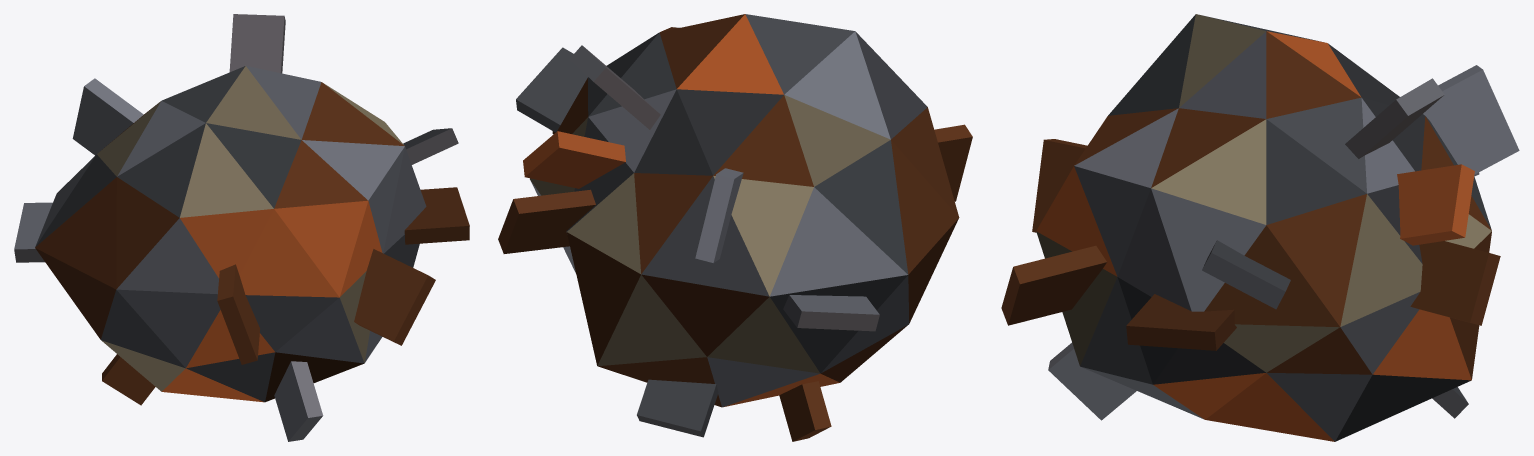
File: scrap_ball.glb
3 views of the same model, side by side, from view 1: azimuth 30°, elevation 25°; view 2: azimuth 150°, elevation 25°; view 3: azimuth 270°, elevation 25° (orthographic). The views are drawn at different scales.
Visible parts, largest first — view 1: Mesh; view 2: Mesh; view 3: Mesh.
Boxes of the visible parts, x1,y1,x2,y2 form: Mesh: (14,14,469,441); Mesh: (498,14,972,441); Mesh: (1001,14,1519,441).
Size of the model in its own units: 0.7762 by 0.6679 by 0.7568.
